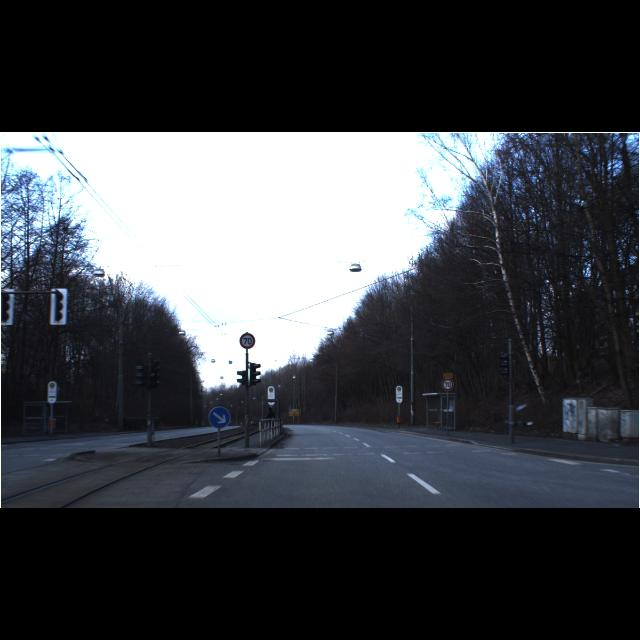mandatory: (208, 406, 230, 429)
prohibitory: (239, 333, 255, 349), (442, 378, 454, 392)
